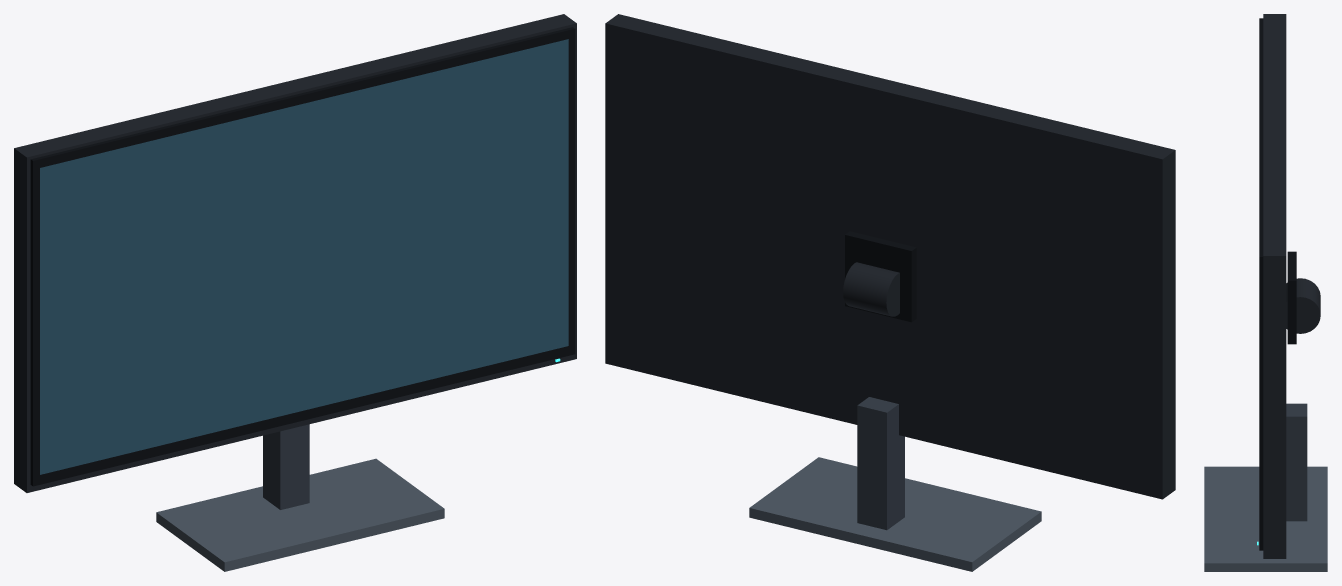
File: monitor-samsung.glb
3 views of the same model, side by side, from view 1: azimuth 30°, elevation 25°; view 2: azimuth 150°, elevation 25°; view 3: azimuth 270°, elevation 25° (orthographic). The views are drawn at different scales.
Parts seen in each view (by area): view 1: monitor-Samsung LS27B61x · S61B 계열 (×5); view 2: monitor-Samsung LS27B61x · S61B 계열 (×5); view 3: monitor-Samsung LS27B61x · S61B 계열 (×6).
Part boxes in pixels (x1,y1,x2,y2): monitor-Samsung LS27B61x · S61B 계열 (×5): (14,14,576,571); monitor-Samsung LS27B61x · S61B 계열 (×5): (605,14,1175,571); monitor-Samsung LS27B61x · S61B 계열 (×6): (1204,14,1327,571).
Size of the model in its own units: 4.5 by 3.37 by 0.97.
